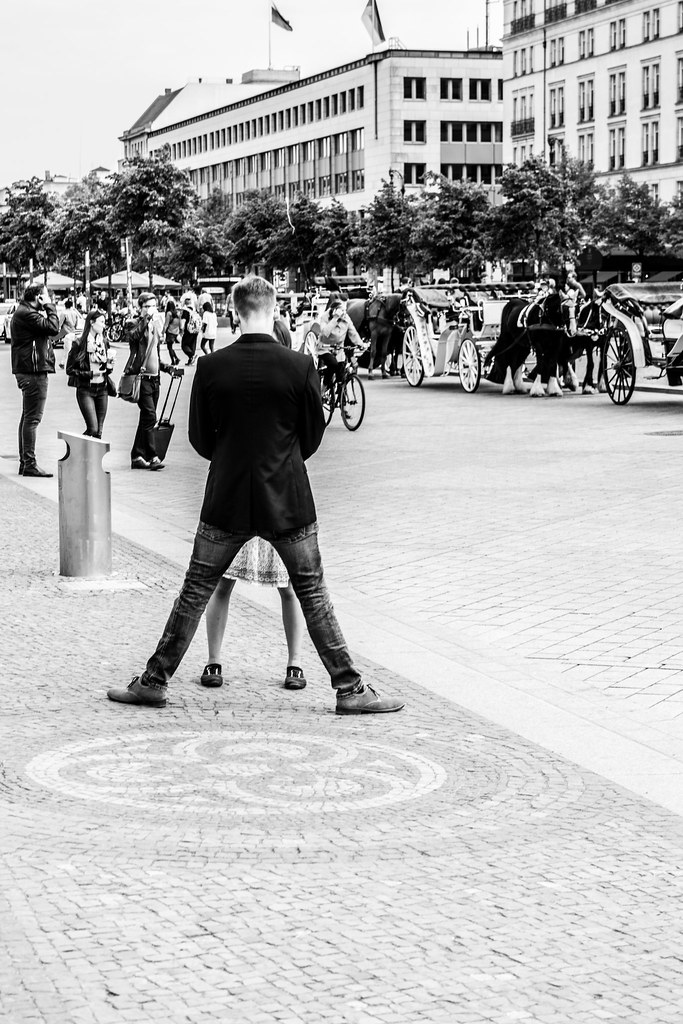person: (139, 240, 379, 784)
